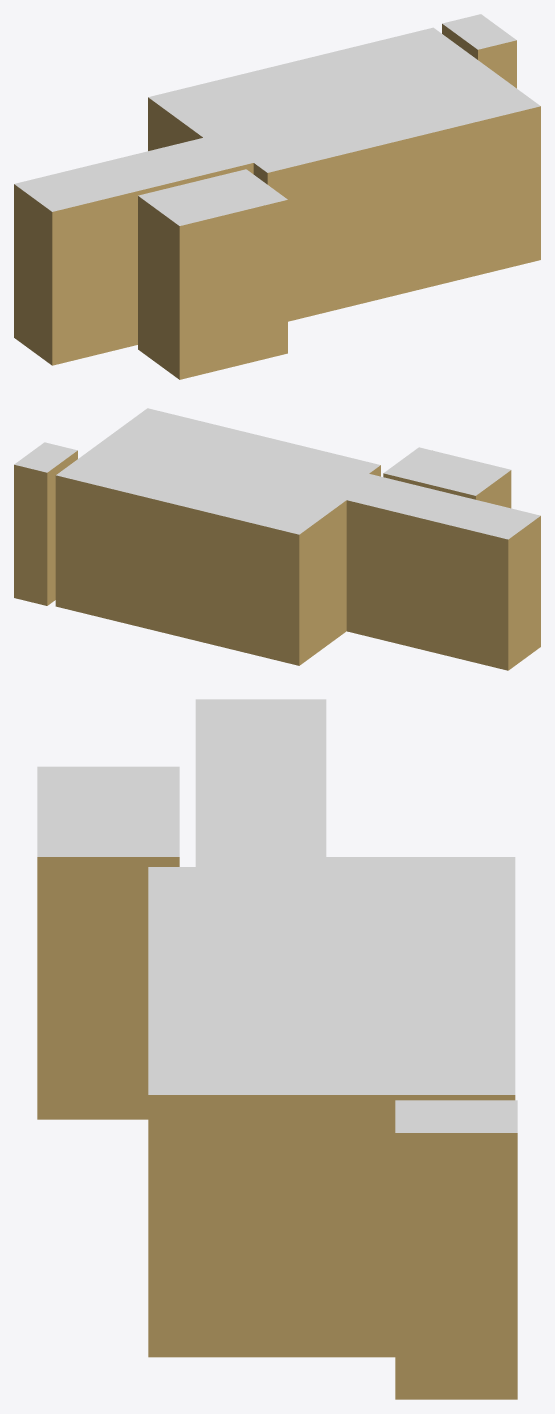
Rendered from First_Floor_Hall.glb.
3 renders of one model, top to bottom at view 1: azimuth 30°, elevation 25°; view 2: azimuth 150°, elevation 25°; view 3: azimuth 270°, elevation 25°, orthographic. The views are drawn at different scales.
Parts seen in each view (by area): view 1: Room_FF_Hall, Room_Cupboard1, Room_Cupboard2; view 2: Room_FF_Hall, Room_Cupboard2, Room_Cupboard1; view 3: Room_FF_Hall, Room_Cupboard1, Room_Cupboard2.
Boxes of the visible parts, x1,y1,x2,y2 form: Room_FF_Hall: (14,27,540,365); Room_Cupboard1: (138,169,287,379); Room_Cupboard2: (442,14,516,88); Room_FF_Hall: (55,408,540,670); Room_Cupboard2: (14,442,77,605); Room_Cupboard1: (383,447,511,508); Room_FF_Hall: (148,699,515,1357); Room_Cupboard1: (37,766,179,1119); Room_Cupboard2: (395,1100,517,1399).
Size of the model in its own units: 8.72 by 2.49 by 4.07.
